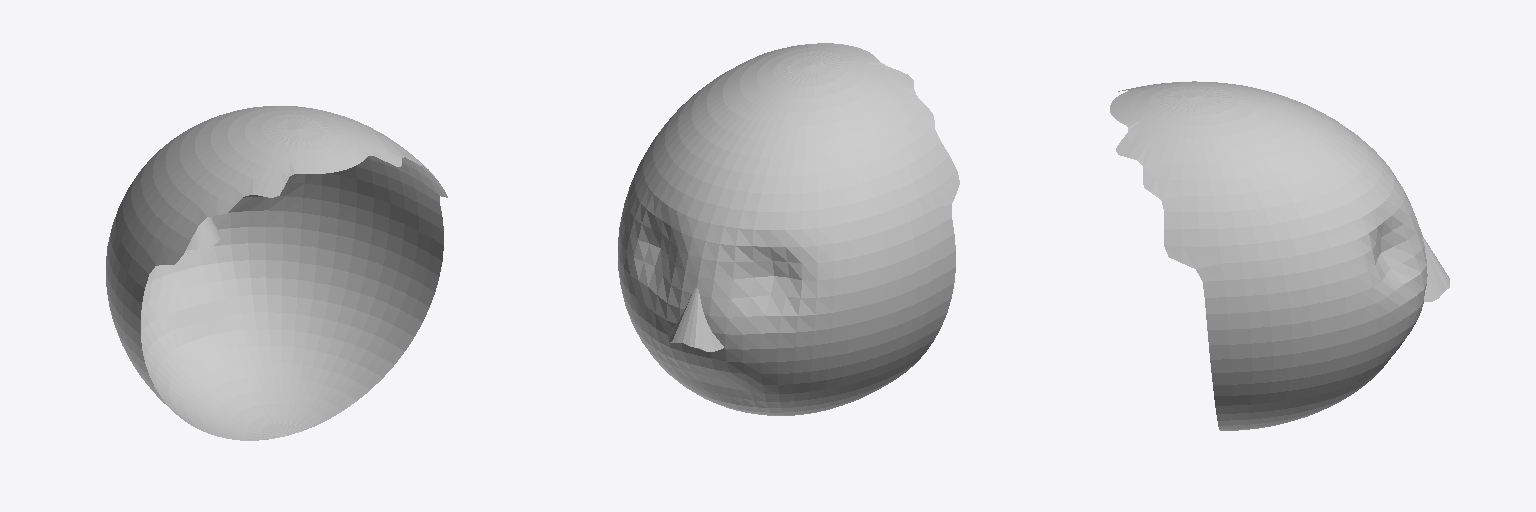
Rendered from cara.obj.
3 views of the same model, side by side, from view 1: azimuth 30°, elevation 25°; view 2: azimuth 150°, elevation 25°; view 3: azimuth 270°, elevation 25° (orthographic).
Parts seen in each view (by area): view 1: Sphere, Cone; view 2: Sphere, Cone; view 3: Sphere, Cone.
Boxes of the visible parts, x1=… form: Sphere: x1=106, y1=106, x2=447, y2=440; Cone: x1=186, y1=217, x2=220, y2=249; Sphere: x1=618, y1=43, x2=959, y2=415; Cone: x1=668, y1=288, x2=723, y2=351; Sphere: x1=1110, y1=81, x2=1427, y2=430; Cone: x1=1423, y1=237, x2=1449, y2=301.
Bounding box in the file's own units: 9.44 × 9.46 × 9.18.